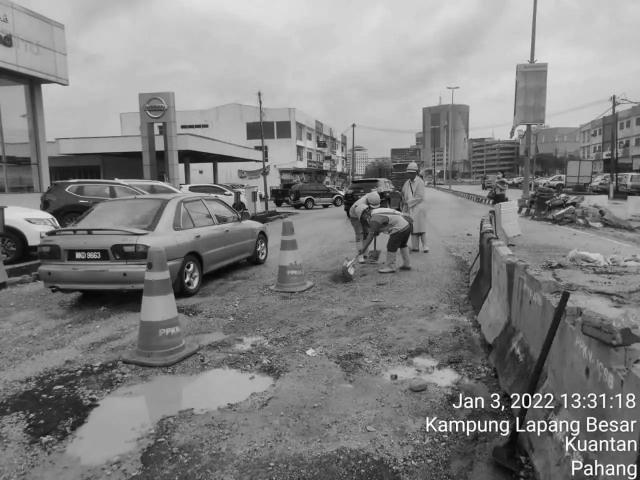Pothole: (25, 360, 282, 480), (377, 353, 461, 391), (230, 330, 268, 354), (186, 329, 228, 345)
